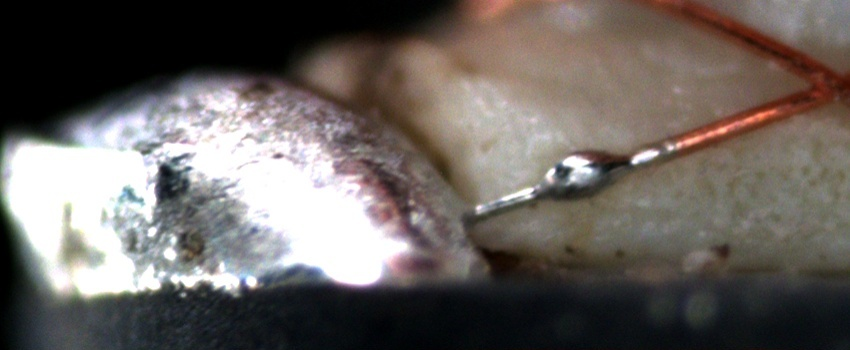CL: (774, 48, 846, 118)
TB: (539, 144, 619, 206)
TS: (472, 138, 673, 220)
TTCW: (463, 114, 738, 222)
